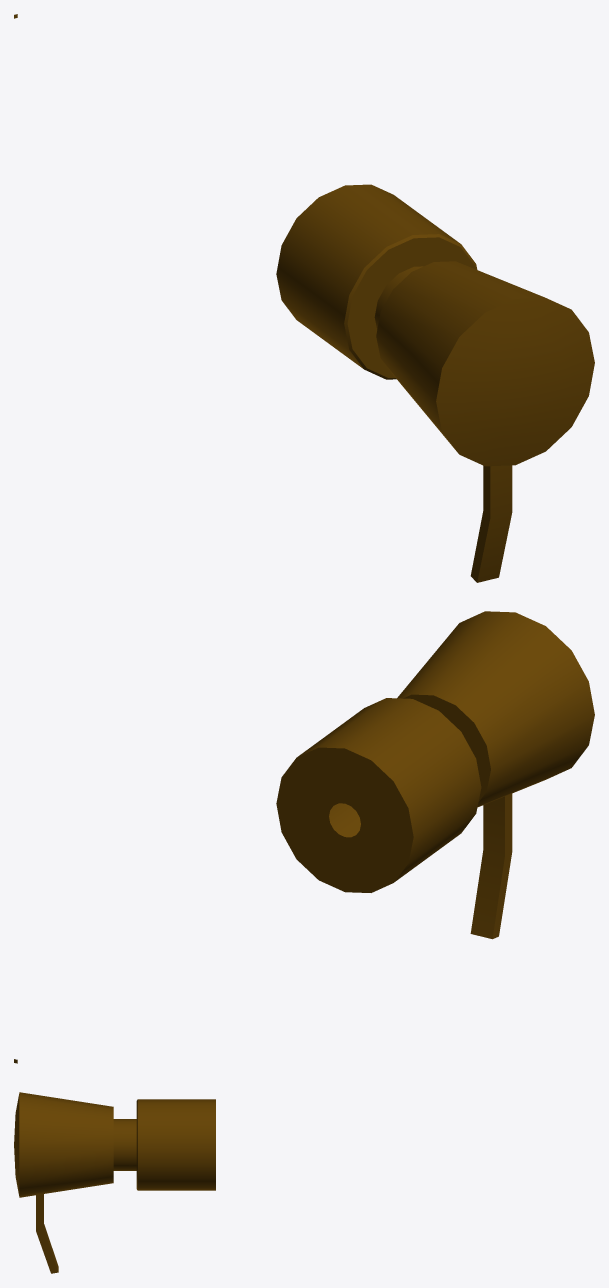
Rendered from MeshSoapBottle_26_0_GeomSubset_1.obj.
The picture shows the model from 3 angles, top to bottom: view 1: azimuth 30°, elevation 25°; view 2: azimuth 150°, elevation 25°; view 3: azimuth 270°, elevation 25°; orthographic projection. The views are drawn at different scales.
Parts seen in each view (by area): view 1: MeshSoapBottle_26_0_GeomSubset_1; view 2: MeshSoapBottle_26_0_GeomSubset_1; view 3: MeshSoapBottle_26_0_GeomSubset_1.
Boxes of the visible parts, x1=… form: MeshSoapBottle_26_0_GeomSubset_1: x1=14, y1=14, x2=594, y2=582; MeshSoapBottle_26_0_GeomSubset_1: x1=14, y1=611, x2=594, y2=1063; MeshSoapBottle_26_0_GeomSubset_1: x1=14, y1=1092, x2=215, y2=1273.
Bounding box in the file's own units: 0.0434 × 0.0787 × 0.2387.
